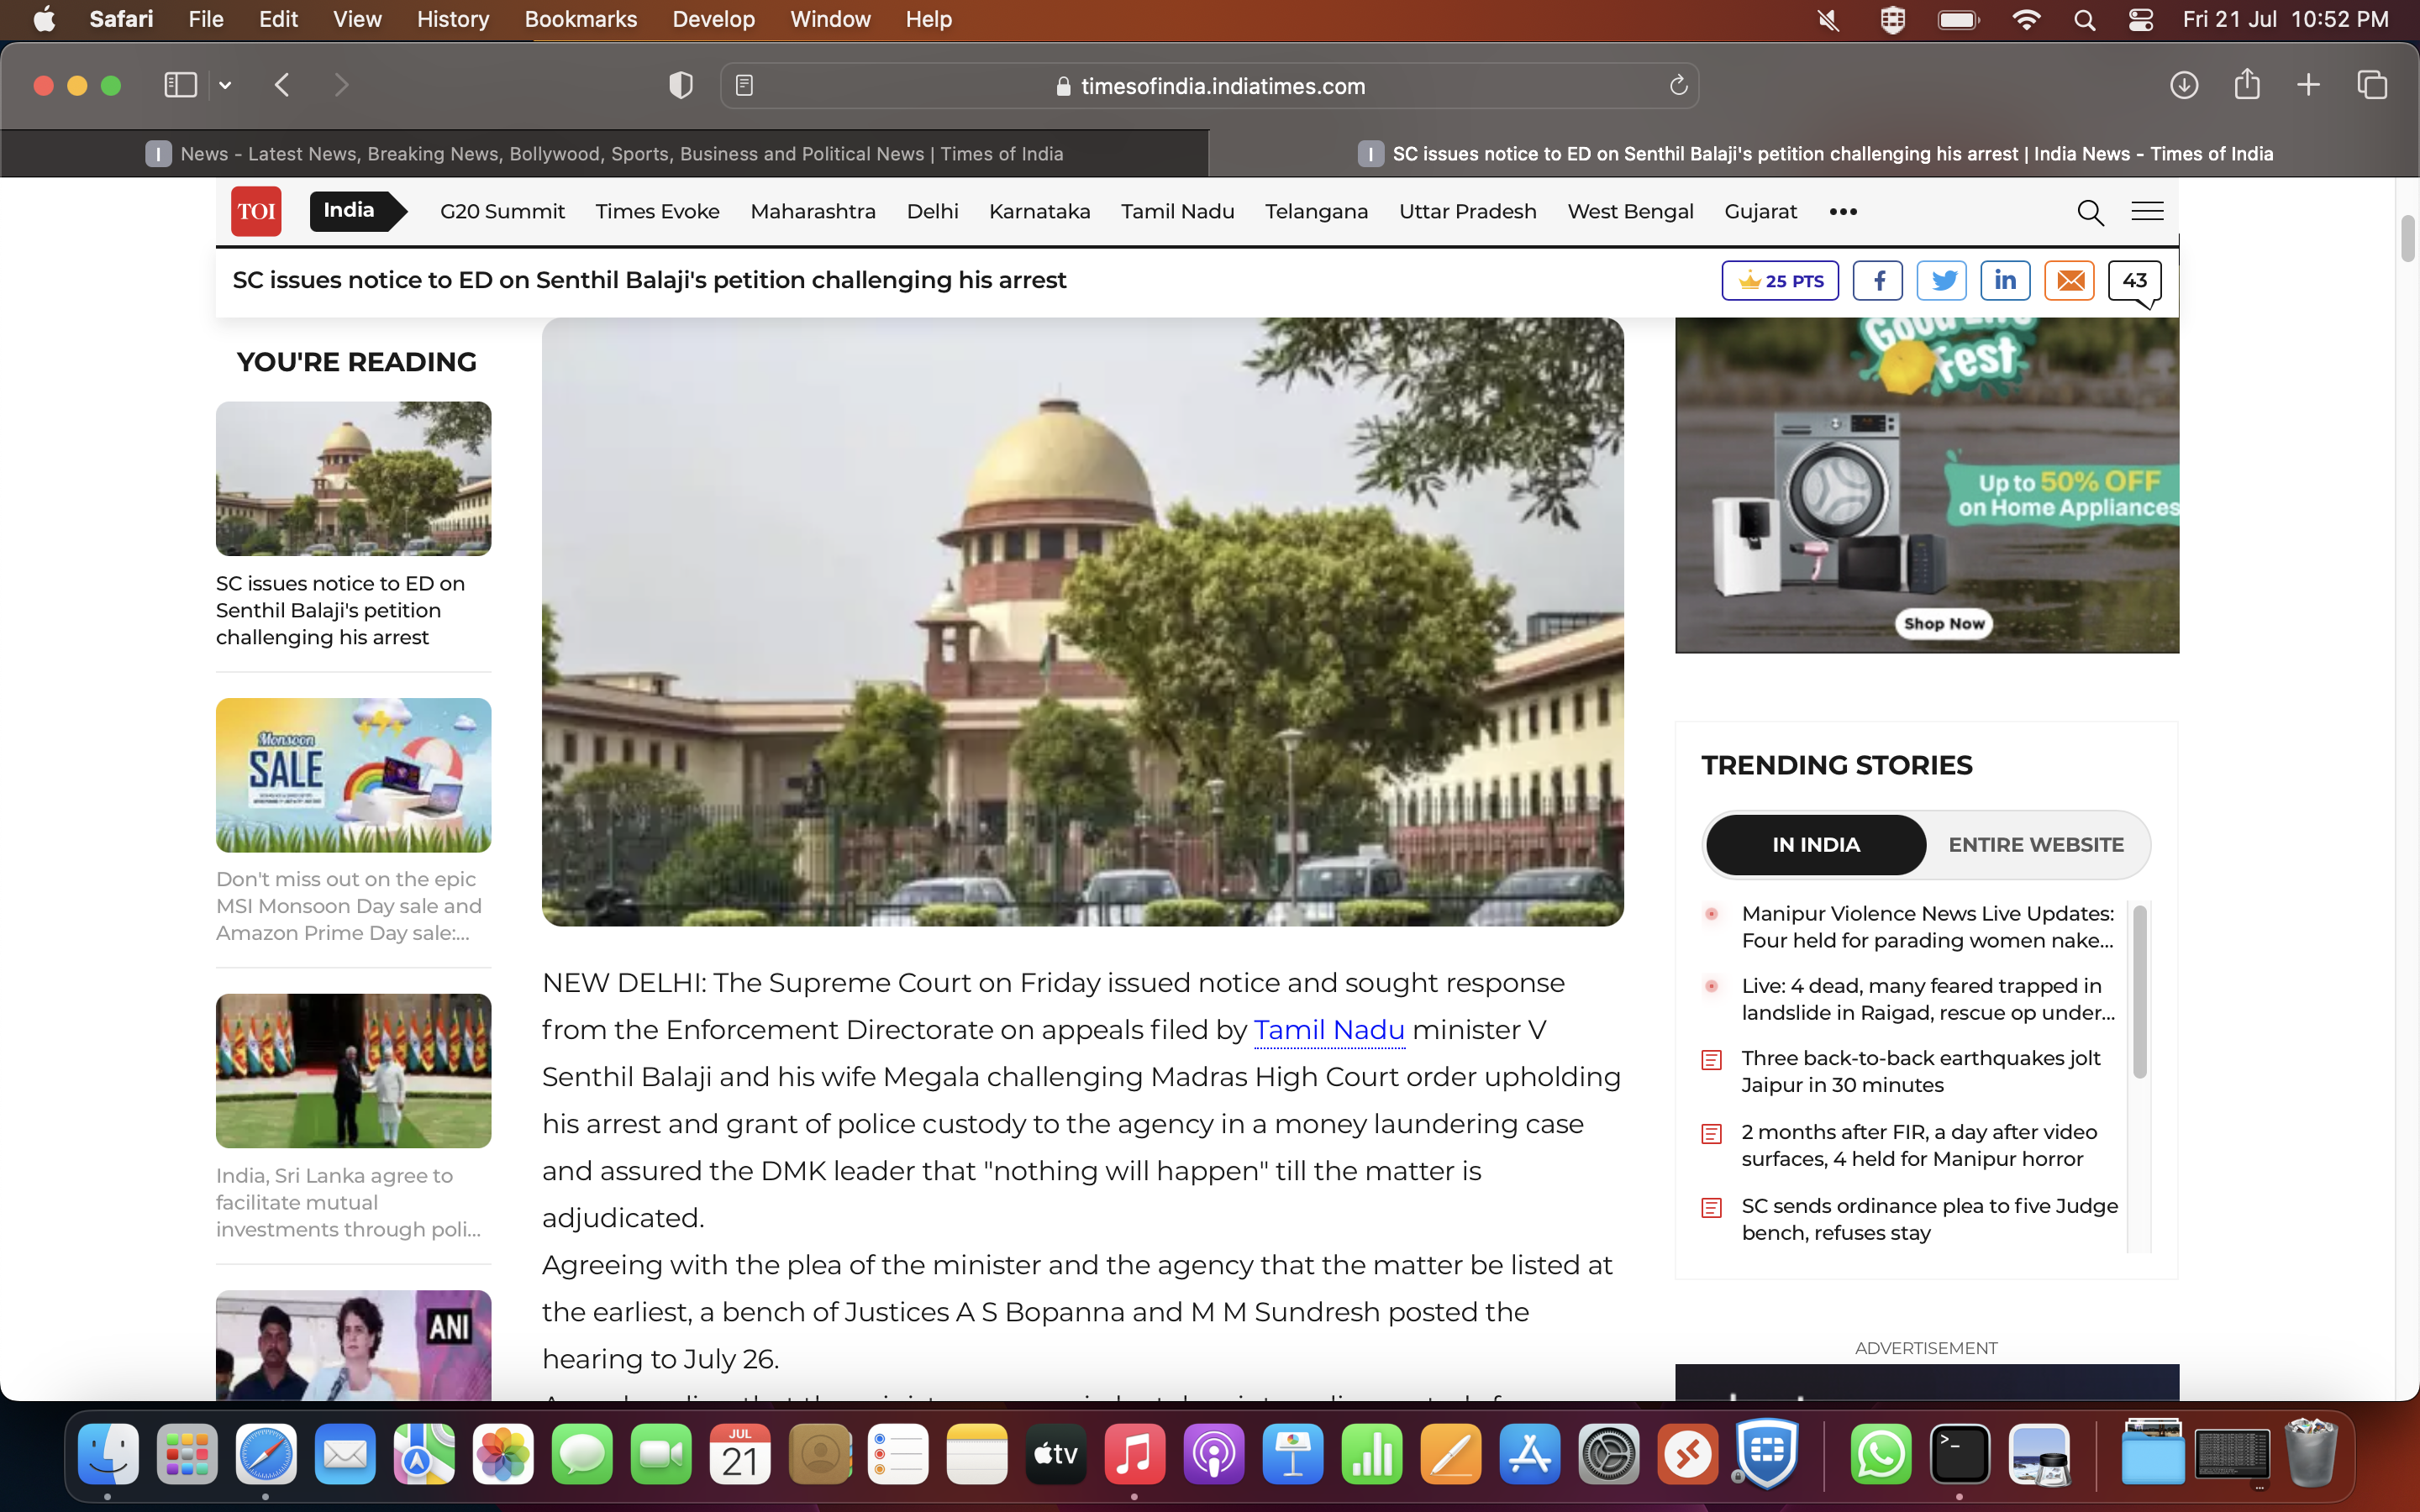Image: (1678, 326, 2178, 638), (213, 995, 491, 1144), (220, 401, 488, 556), (220, 702, 484, 847), (213, 1289, 491, 1406)
Paragraph: (524, 953, 1639, 1244), (535, 1251, 1632, 1381), (216, 261, 1087, 301), (1718, 888, 2120, 963), (1718, 963, 2124, 1035), (202, 1148, 493, 1247), (199, 867, 497, 960), (206, 563, 491, 658), (1735, 1183, 2120, 1247), (1725, 1108, 2106, 1172), (1728, 1042, 2126, 1097), (1697, 744, 1965, 786), (751, 181, 885, 251), (1392, 188, 1558, 240), (1568, 178, 1697, 240), (408, 185, 584, 230), (1944, 826, 2129, 867), (587, 178, 744, 226), (1253, 185, 1375, 240), (988, 178, 1094, 240), (1115, 181, 1235, 233), (1707, 188, 1810, 240), (892, 192, 988, 237), (1760, 829, 1869, 857)
